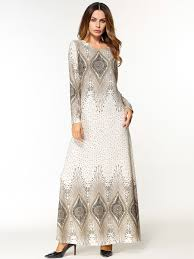middle_eastern_Female: (87, 7, 114, 44)
